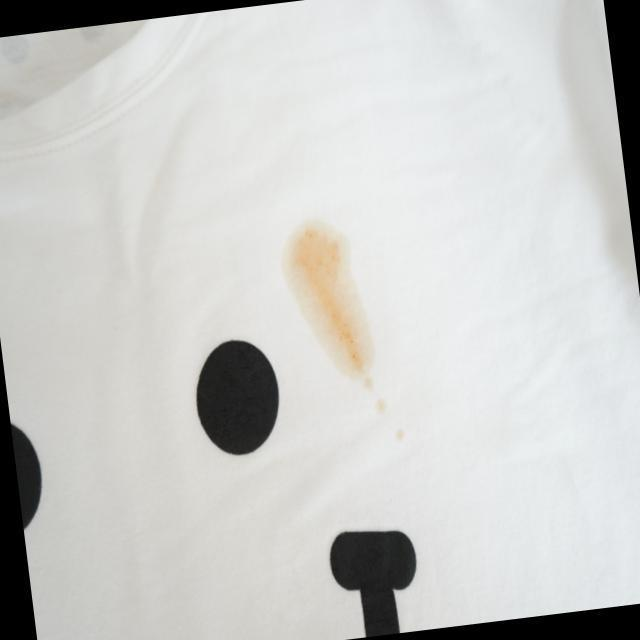kimchi: (277, 214, 411, 435)
